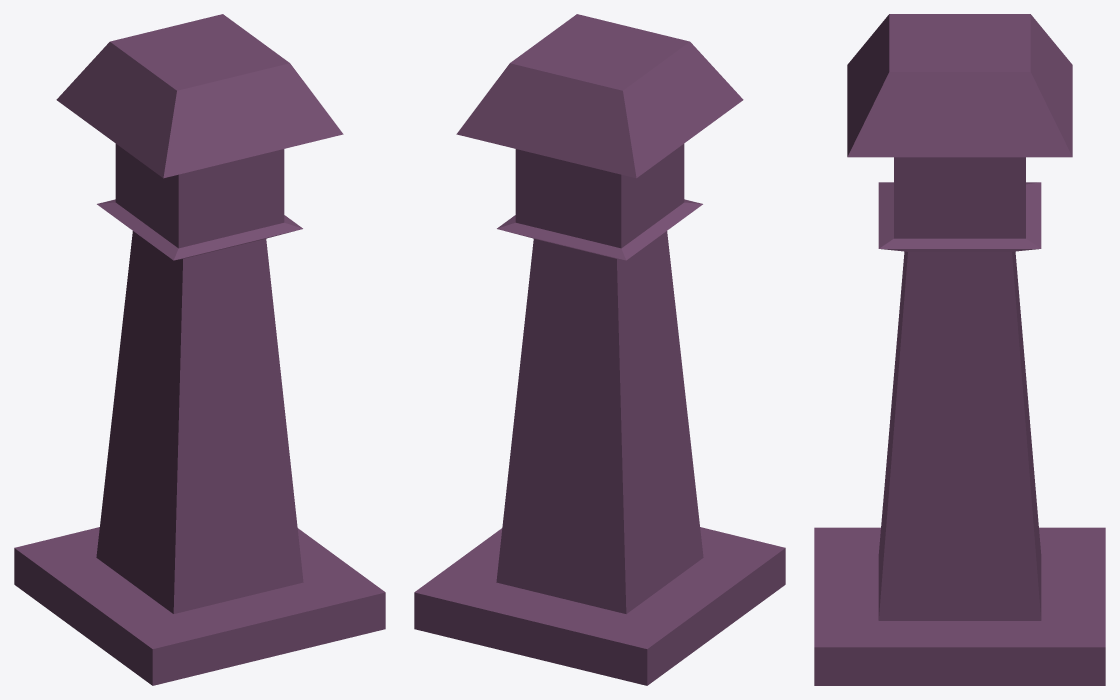
File: M_blockout_lamp.fbx
3 views of the same model, side by side, from view 1: azimuth 30°, elevation 25°; view 2: azimuth 150°, elevation 25°; view 3: azimuth 270°, elevation 25° (orthographic). The views are drawn at different scales.
Visible parts, largest first — view 1: Cube.033; view 2: Cube.033; view 3: Cube.033.
Part boxes in pixels (x1,y1,x2,y2): Cube.033: (14,14,385,685); Cube.033: (414,14,785,685); Cube.033: (814,14,1105,685).
Size of the model in its own units: 104 by 236 by 107.
